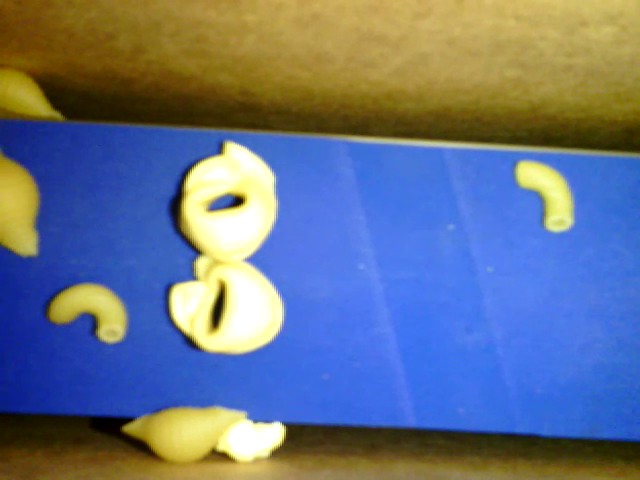elbow: (46, 281, 129, 345), (516, 157, 576, 234)
shell: (117, 401, 249, 465), (1, 151, 45, 265), (1, 63, 69, 125)
tortellini: (170, 136, 281, 262), (164, 250, 286, 358)
